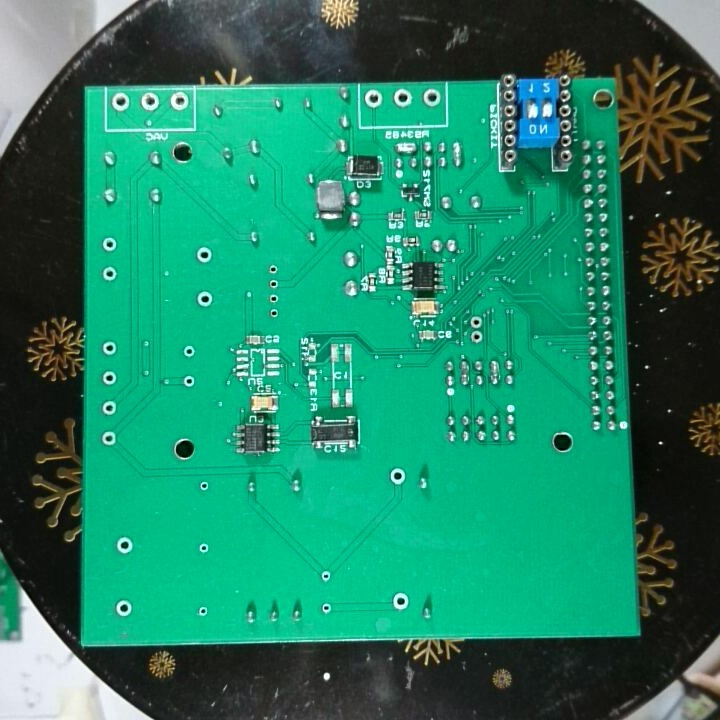F: (168, 89, 191, 115), (391, 87, 416, 109), (390, 589, 412, 613), (420, 87, 442, 111), (139, 92, 162, 114), (109, 91, 131, 113), (362, 88, 384, 110), (114, 534, 134, 557), (114, 598, 134, 620), (194, 244, 214, 266), (99, 369, 120, 389), (194, 289, 215, 309), (388, 466, 408, 486), (99, 339, 120, 358), (100, 263, 119, 284), (467, 327, 488, 346), (99, 398, 118, 418), (100, 235, 119, 254), (100, 429, 118, 449), (467, 312, 486, 330), (317, 600, 335, 618), (265, 261, 284, 278), (195, 477, 212, 495), (318, 568, 335, 585), (194, 603, 211, 620), (265, 290, 282, 306), (266, 275, 283, 291), (267, 305, 282, 323), (180, 373, 196, 389), (181, 344, 196, 360), (197, 540, 211, 556)
P: (487, 355, 502, 389), (457, 357, 472, 389), (450, 139, 465, 171), (391, 139, 419, 155)
